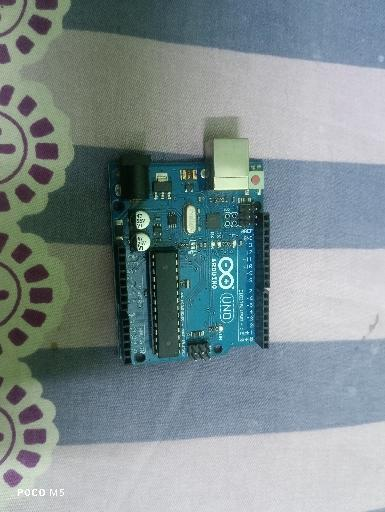Arduino: (104, 135, 274, 367)
